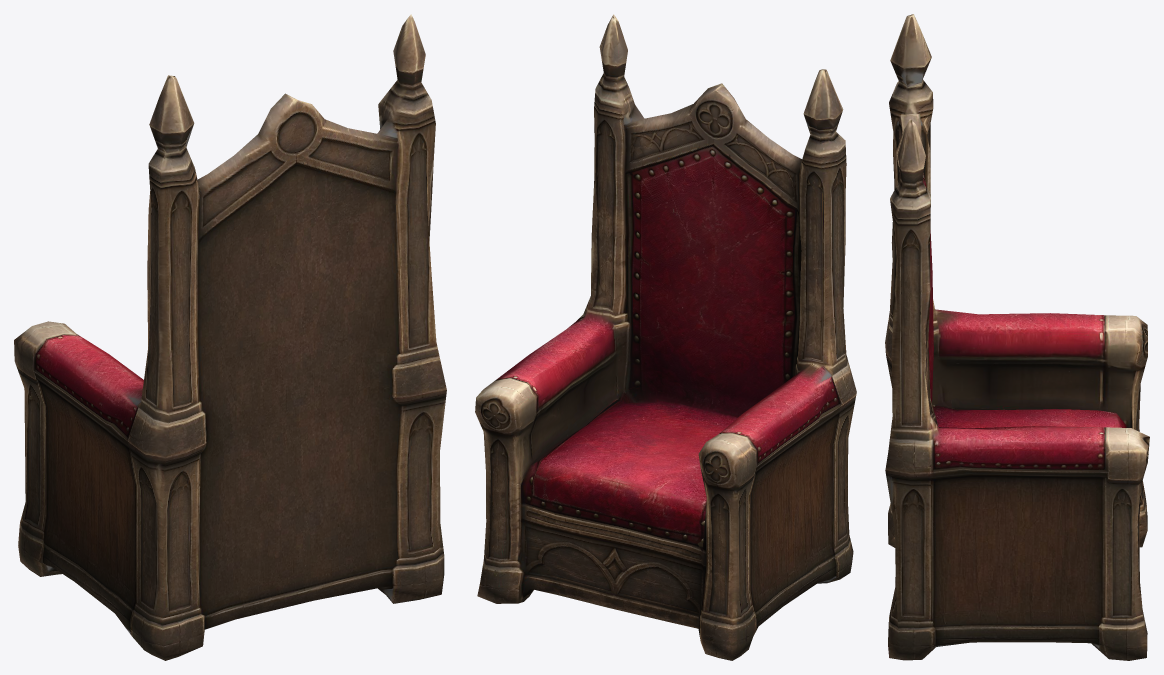
Rendered from thrones.glb.
3 renders of one model, left to right at view 1: azimuth 30°, elevation 25°; view 2: azimuth 150°, elevation 25°; view 3: azimuth 270°, elevation 25°, orthographic. The views are drawn at different scales.
Parts seen in each view (by area): view 1: tripo_node_c3bf1d6b; view 2: tripo_node_c3bf1d6b; view 3: tripo_node_c3bf1d6b.
Boxes of the visible parts, x1,y1,x2,y2 form: tripo_node_c3bf1d6b: (14,14,446,660); tripo_node_c3bf1d6b: (475,14,856,660); tripo_node_c3bf1d6b: (885,14,1149,660).
Size of the model in its own units: 2.13 by 3.88 by 1.75.
1 material, 1 textured.
